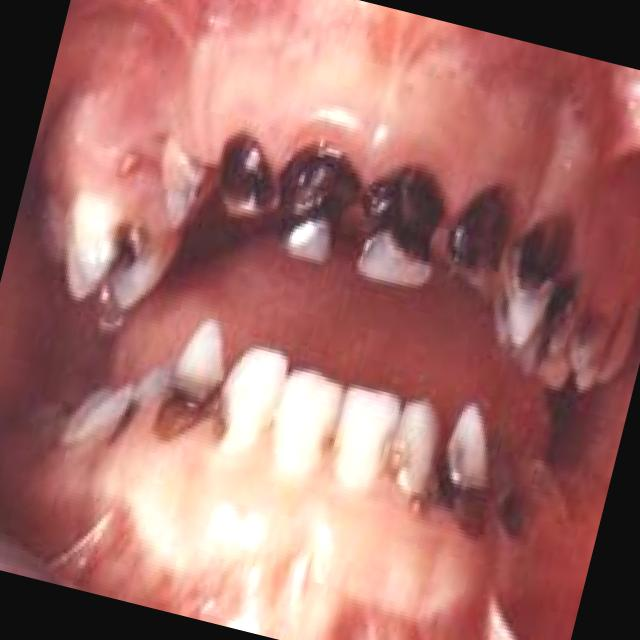caries: (258, 127, 368, 276), (492, 207, 598, 356), (350, 144, 454, 277), (197, 117, 281, 235), (437, 177, 518, 290), (144, 368, 234, 463)
